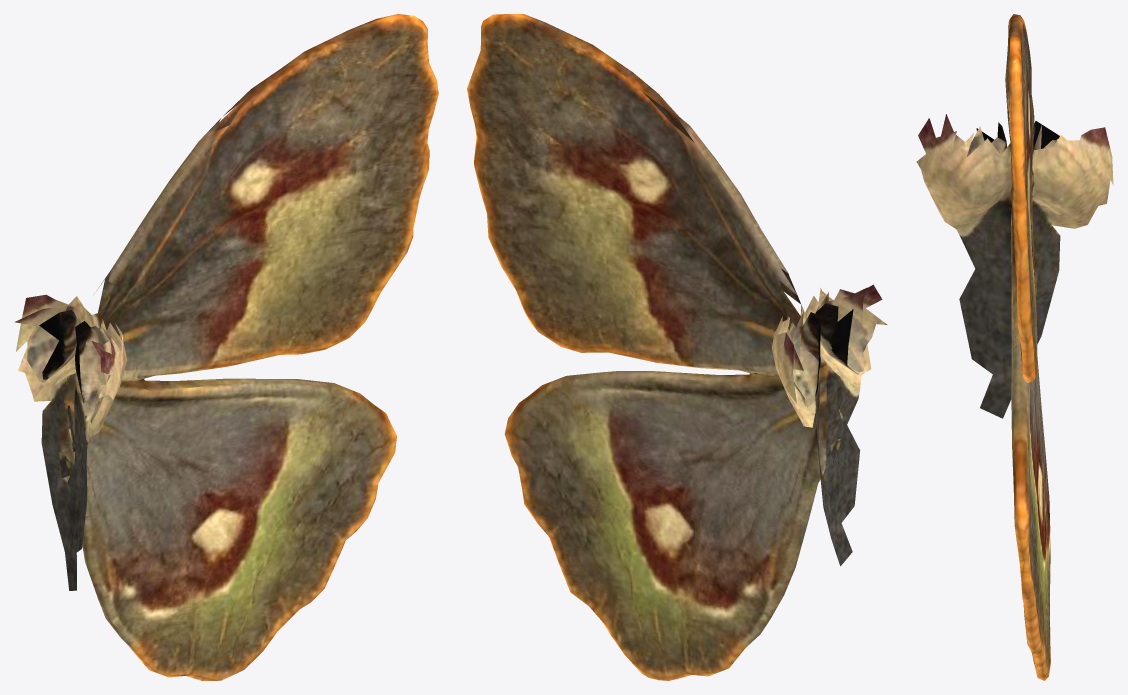
Rendered from embermoth-right.glb.
3 views of the same model, side by side, from view 1: azimuth 30°, elevation 25°; view 2: azimuth 150°, elevation 25°; view 3: azimuth 270°, elevation 25° (orthographic). The views are drawn at different scales.
Parts seen in each view (by area): view 1: Mesh_0.001; view 2: Mesh_0.001; view 3: Mesh_0.001.
Boxes of the visible parts, <box> form: Mesh_0.001: <box>14,14,438,680</box>; Mesh_0.001: <box>467,14,887,680</box>; Mesh_0.001: <box>916,14,1113,680</box>.
Size of the model in its own units: 0.6556 by 1.03 by 0.2567.
Materials: 1 (1 with a texture image).
